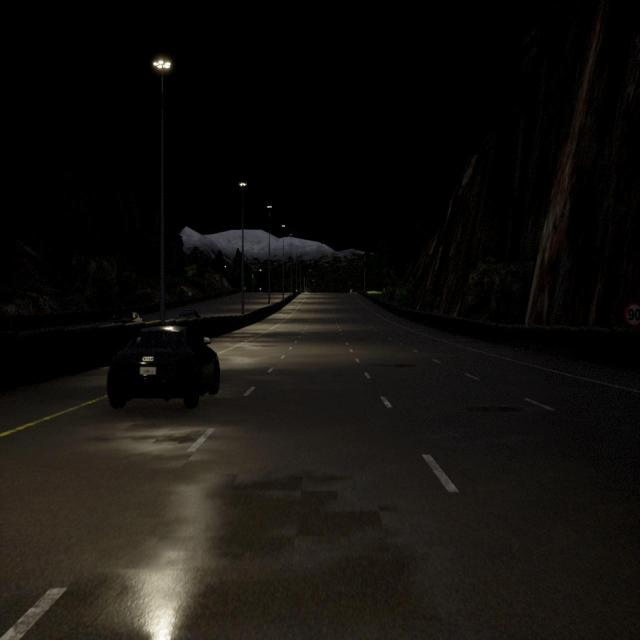Traffic_Signs: (624, 303, 640, 325), (188, 292, 192, 296)
Vehicle: (107, 325, 219, 408)
